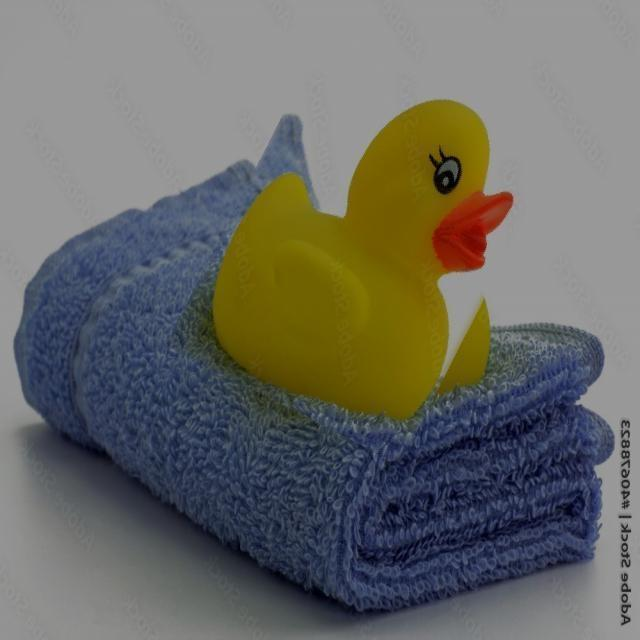rubber-duck: (212, 99, 511, 416), (436, 300, 488, 391)
